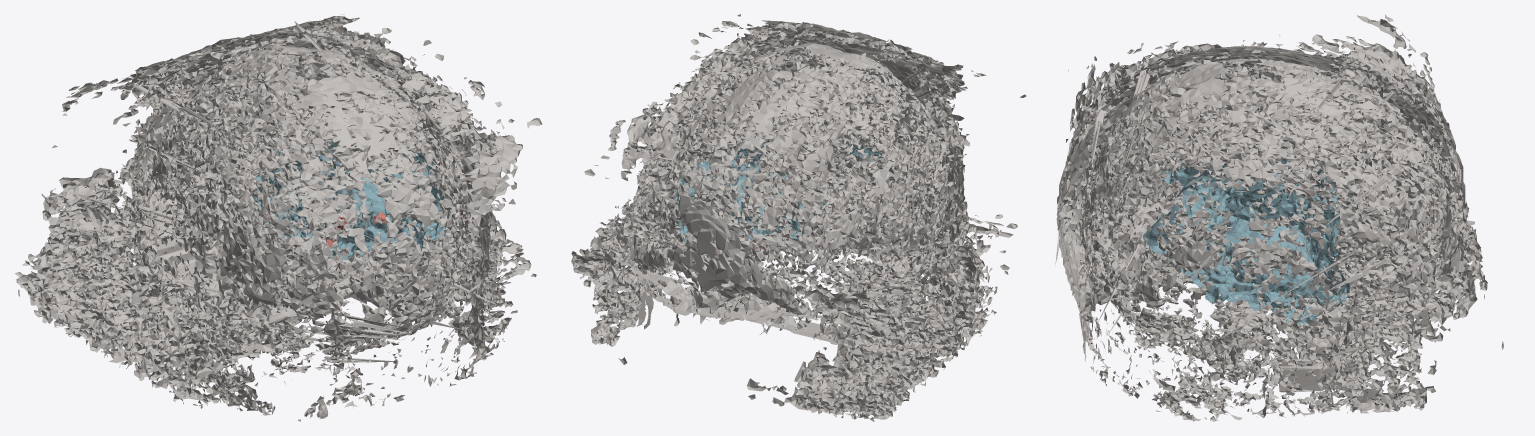
File: case_gbm_upenn002.glb
The picture shows the model from 3 angles, left to right: view 1: azimuth 30°, elevation 25°; view 2: azimuth 150°, elevation 25°; view 3: azimuth 270°, elevation 25°; orthographic projection. The views are drawn at different scales.
Parts seen in each view (by area): view 1: Brain surface (skull-stripped), Peritumoural oedema / FLAIR hyperintensity; view 2: Brain surface (skull-stripped), Peritumoural oedema / FLAIR hyperintensity; view 3: Brain surface (skull-stripped), Peritumoural oedema / FLAIR hyperintensity.
Boxes of the visible parts, <box> form: Brain surface (skull-stripped): <box>15,14,542,421</box>; Peritumoural oedema / FLAIR hyperintensity: <box>252,139,448,259</box>; Brain surface (skull-stripped): <box>571,14,1026,421</box>; Peritumoural oedema / FLAIR hyperintensity: <box>674,135,881,261</box>; Brain surface (skull-stripped): <box>1055,14,1503,421</box>; Peritumoural oedema / FLAIR hyperintensity: <box>1142,158,1355,324</box>.
Bounding box in the file's own units: 204 × 152 × 229.
